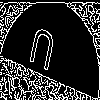U: (25, 24, 57, 81)
